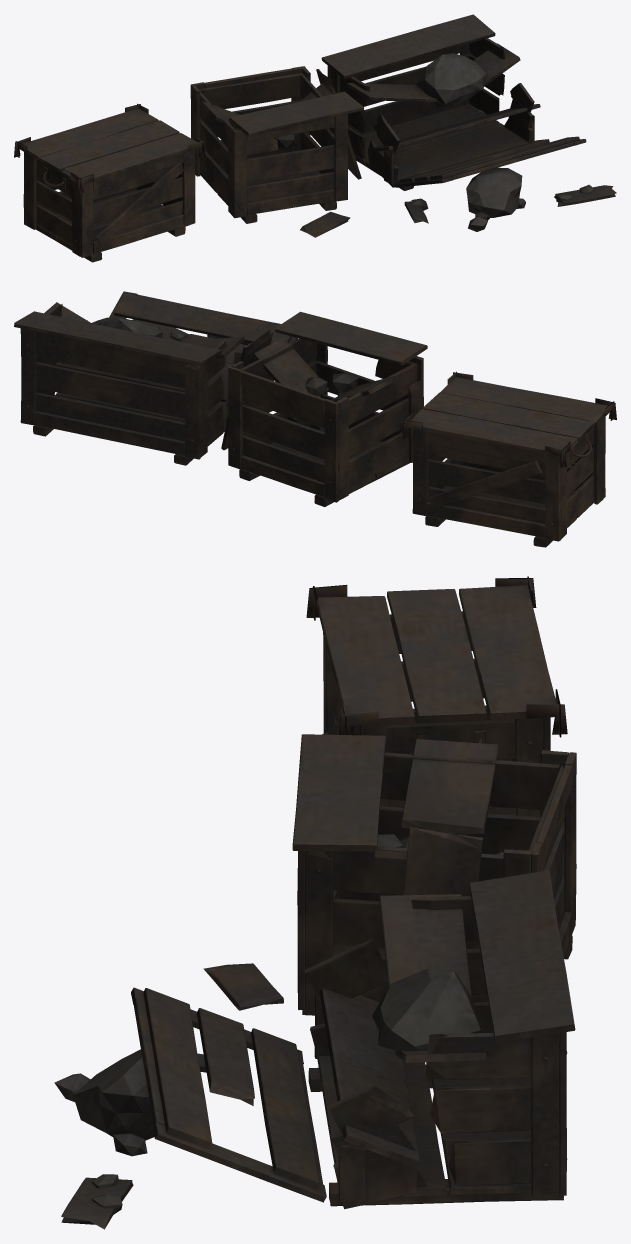
File: b4p_crate_set.glb
The picture shows the model from 3 angles, top to bottom: view 1: azimuth 30°, elevation 25°; view 2: azimuth 150°, elevation 25°; view 3: azimuth 270°, elevation 25°; orthographic projection. The views are drawn at different scales.
Parts seen in each view (by area): view 1: b4p_crate_set; view 2: b4p_crate_set; view 3: b4p_crate_set.
Boxes of the visible parts, x1,y1,x2,y2 form: b4p_crate_set: [14, 14, 616, 262]; b4p_crate_set: [14, 291, 616, 547]; b4p_crate_set: [54, 576, 576, 1229].
Bounding box in the file's own units: 3.09 × 0.6565 × 1.42.
1 material, 1 textured.
